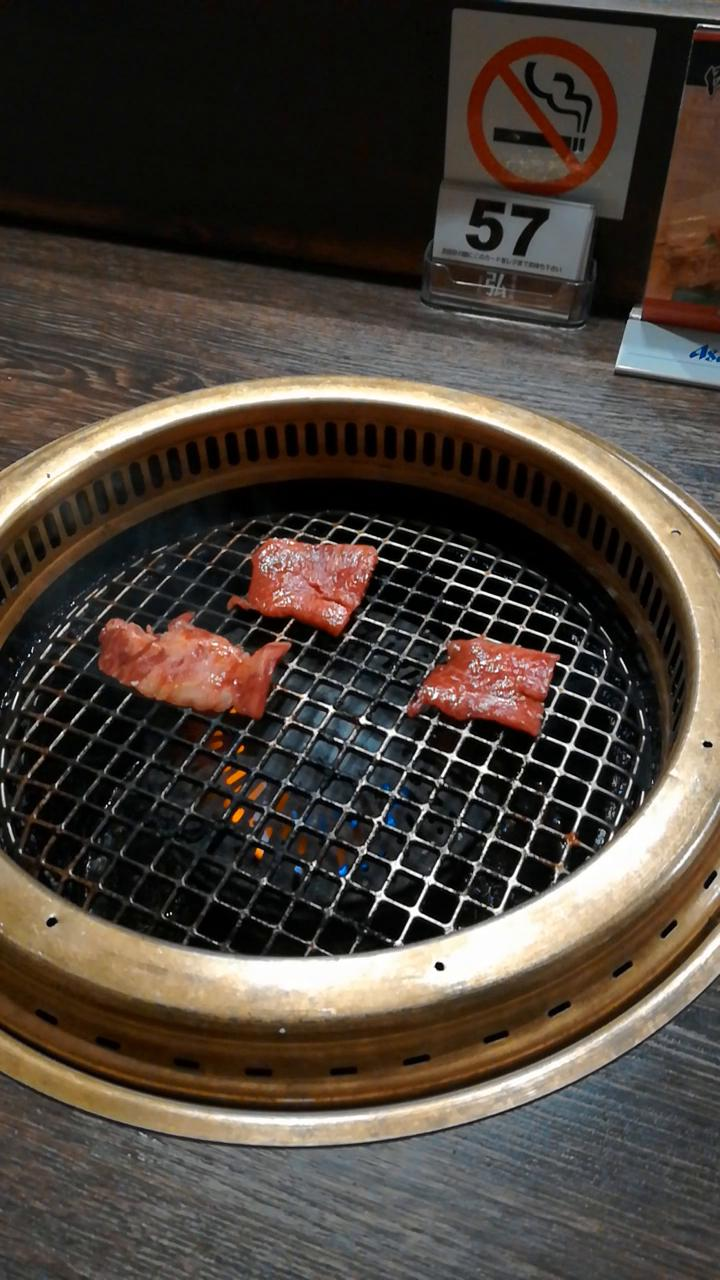raw_beaf: (73, 597, 301, 744), (216, 507, 395, 639), (401, 627, 582, 751)
